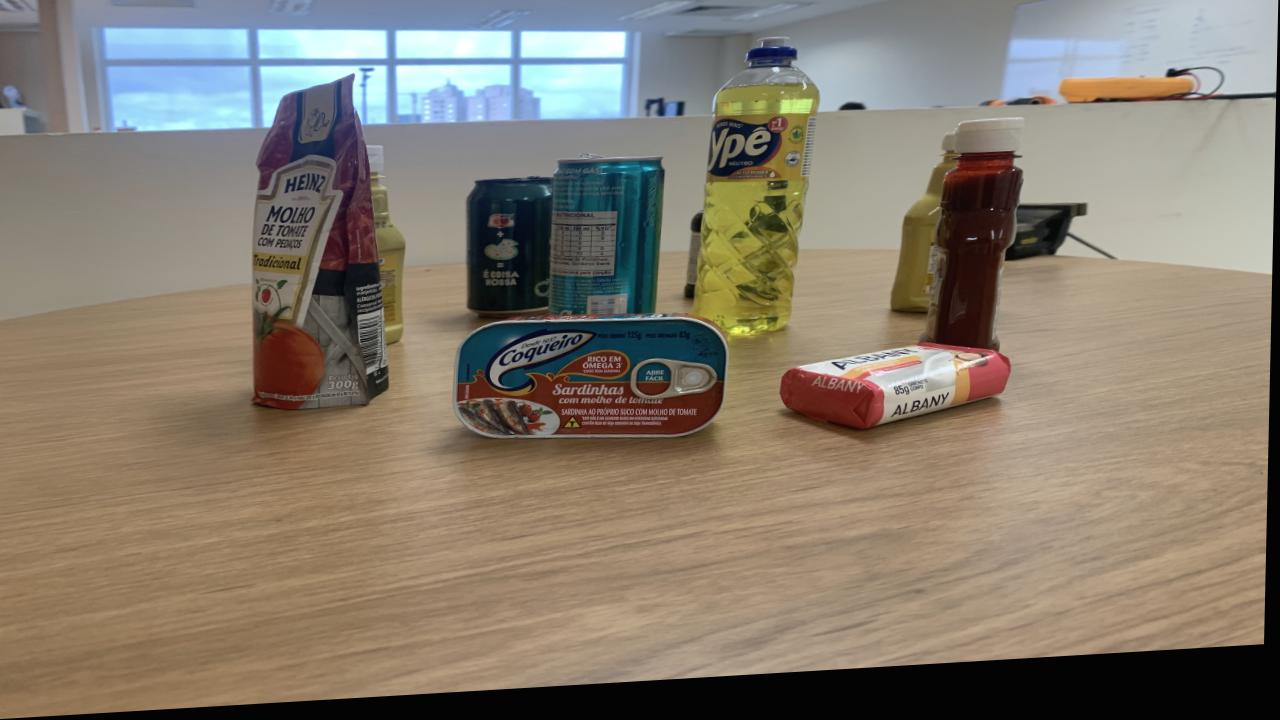Detergent-Cleanup_Items: (694, 48, 820, 344)
Guarana_Can-Drinks: (467, 183, 554, 323)
Ketchup-Pantry_Items: (923, 131, 1024, 364)
Mustard-Pantry_Items: (891, 164, 959, 324), (367, 149, 408, 349)
Soap-Cleanup_Items: (782, 355, 1013, 440)
Tea-Drinks: (551, 162, 666, 323)
Tomato_Sauce-Pantry_Items: (252, 79, 391, 414)
Tuna_Can-Pantry_Items: (455, 321, 731, 446)
